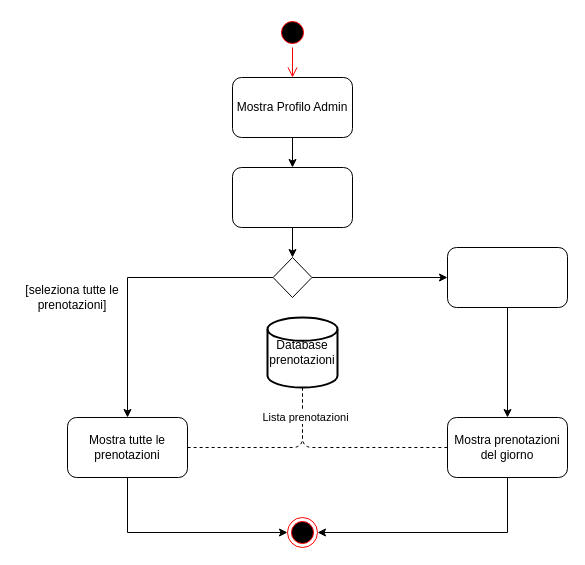
Some shapes in this 585 by 565 pixel diagram are drawn without their labels. Each missing label, with the centre of its shape:
"Seleziona data" goes at (x=507, y=277).
"Seleziona Lista Prenotazioni" goes at (x=292, y=197).
